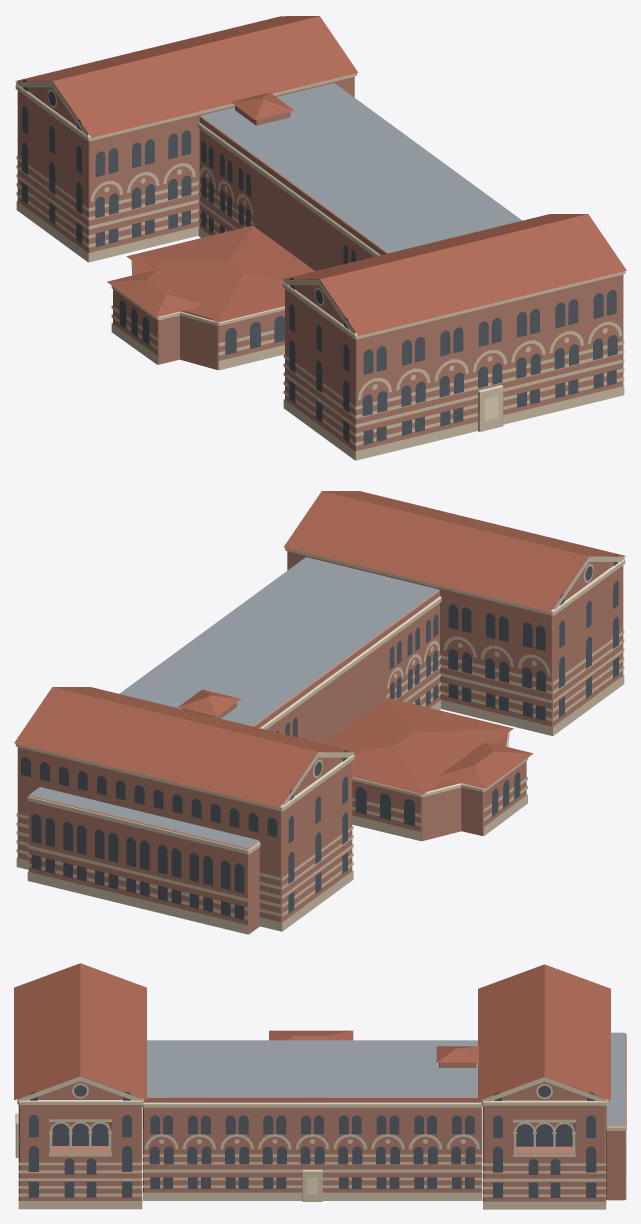
File: la-haines-hall.glb
3 views of the same model, one above another, from view 1: azimuth 30°, elevation 25°; view 2: azimuth 150°, elevation 25°; view 3: azimuth 270°, elevation 25° (orthographic). The views are drawn at different scales.
Parts seen in each view (by area): view 1: Haines Hall; view 2: Haines Hall; view 3: Haines Hall.
Part boxes in pixels (left/top/right/bottom): Haines Hall: left=15, top=16, right=626, bottom=460; Haines Hall: left=14, top=491, right=626, bottom=934; Haines Hall: left=14, top=963, right=626, bottom=1209.
Size of the model in its own units: 47.22 by 21.45 by 89.42.
